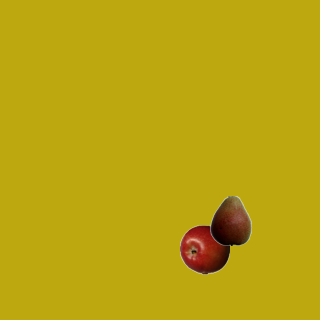Apple Braeburn: (179, 224, 229, 274)
Pear Forelle: (205, 195, 255, 245)
